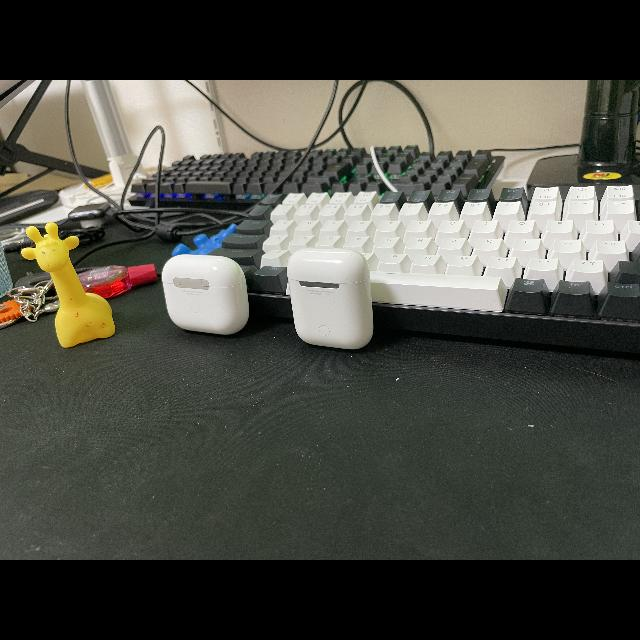airpod2: (284, 242, 388, 352)
airpod3: (158, 248, 254, 336)
